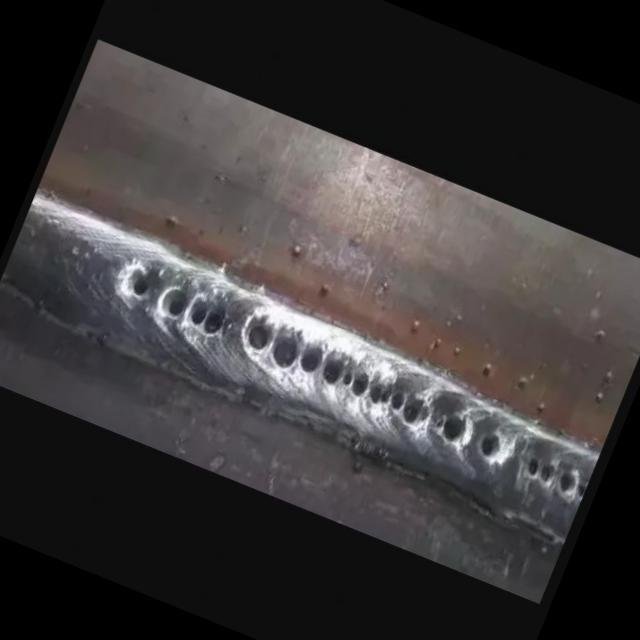defect: (242, 320, 432, 432), (154, 282, 229, 341), (524, 455, 587, 499), (438, 411, 465, 452), (476, 431, 503, 464), (128, 267, 150, 295)
